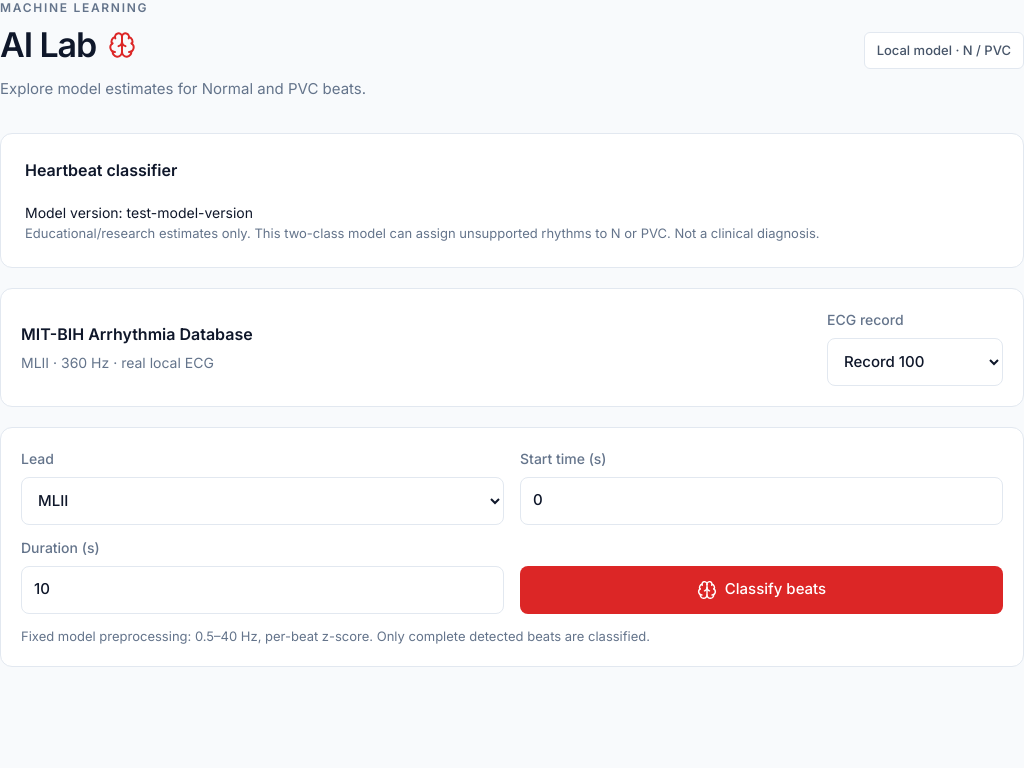
Test: zero classified beats show insufficient data, not fake proportions
Expected: the text "Model version: test-model-version" is shown, [25,204,253,220]
Click the button "Classify beats" at (762, 590), box [520,566,1003,614]
(page scrolled)
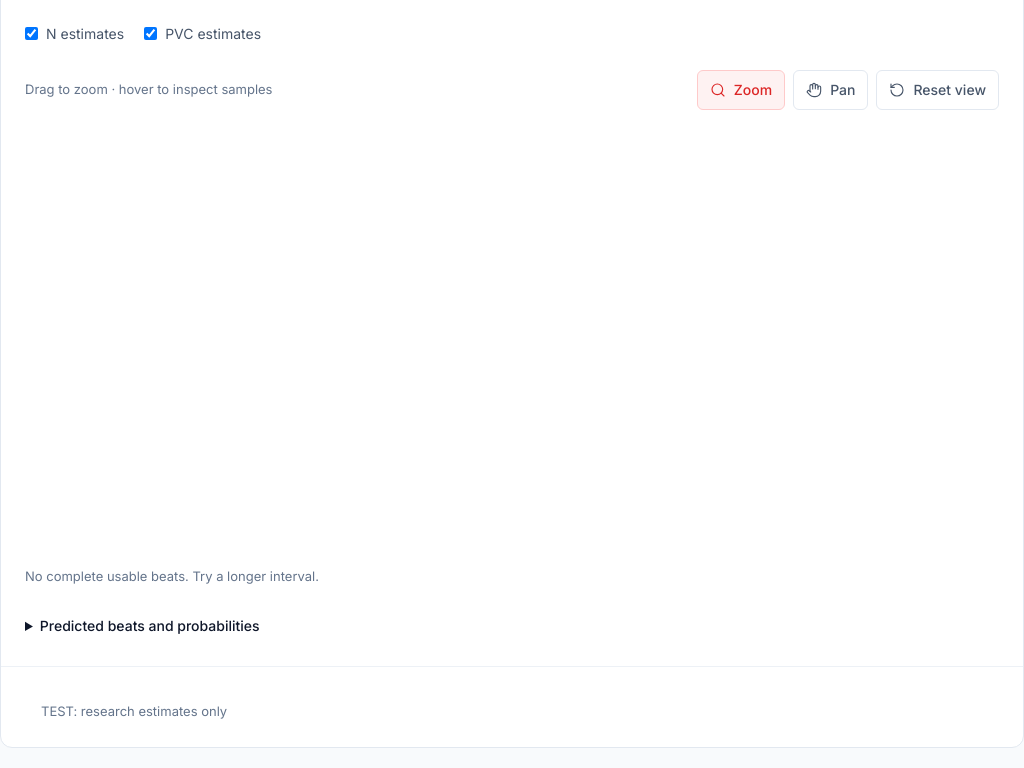
Expected: the text "No complete usable beats. Try a longer interval." is shown, [25,568,319,584]
